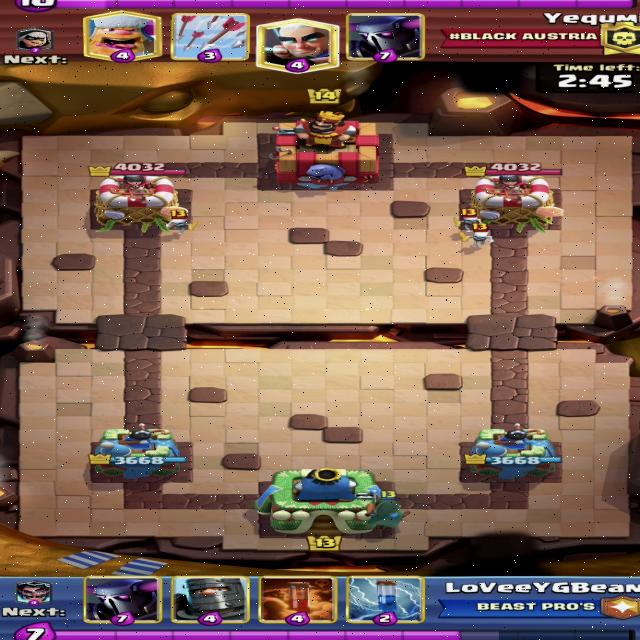Enemy-Skeleton: (165, 210, 193, 237), (467, 222, 494, 247), (456, 208, 484, 232)
